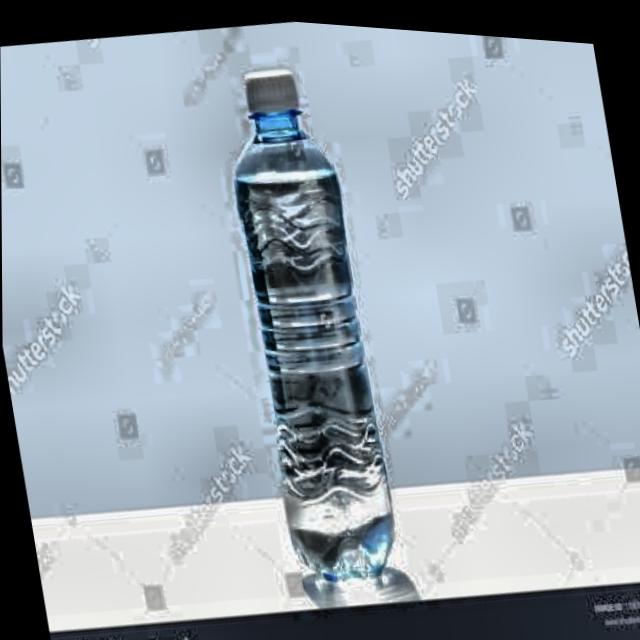Bottles: (178, 36, 449, 613)
